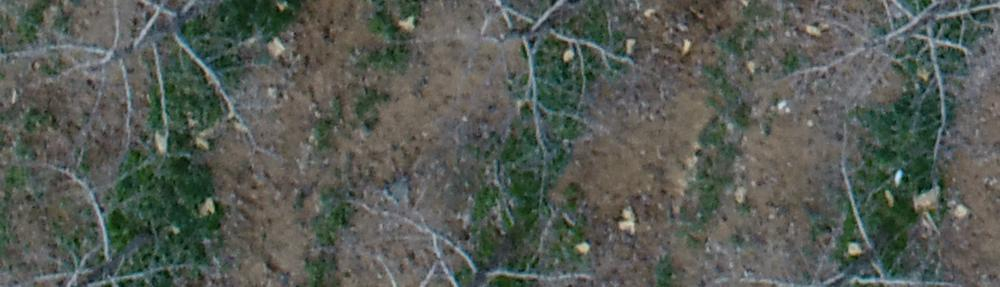apple: (373, 10, 661, 173), (10, 10, 281, 161)
